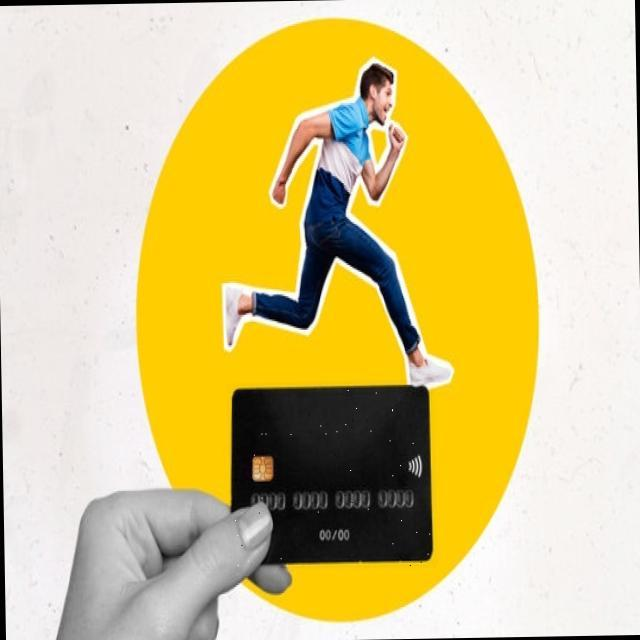payment_card: (229, 384, 433, 564)
